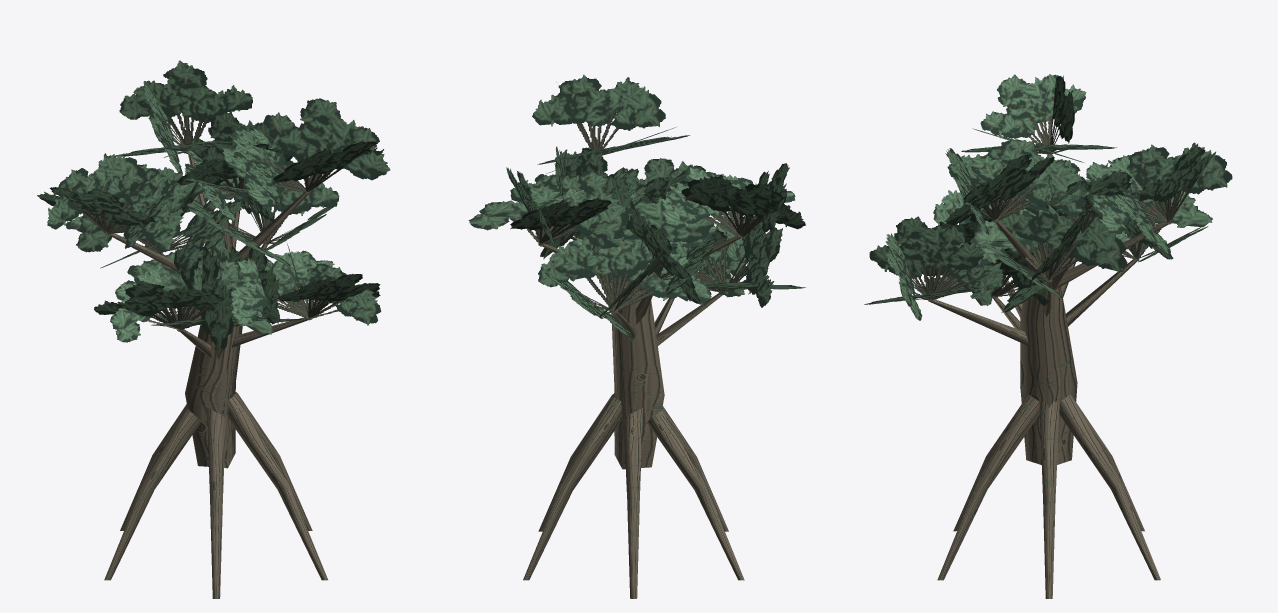
File: salt-marsh-mangrove-mobile.glb
3 renders of one model, left to right at view 1: azimuth 30°, elevation 25°; view 2: azimuth 150°, elevation 25°; view 3: azimuth 270°, elevation 25°, orthographic.
Parts seen in each view (by area): view 1: Salt-marsh mangrove mobile v3 runtime; view 2: Salt-marsh mangrove mobile v3 runtime; view 3: Salt-marsh mangrove mobile v3 runtime.
Part boxes in pixels (x1=…): Salt-marsh mangrove mobile v3 runtime: x1=37, y1=60, x2=390, y2=598; Salt-marsh mangrove mobile v3 runtime: x1=468, y1=74, x2=805, y2=598; Salt-marsh mangrove mobile v3 runtime: x1=864, y1=74, x2=1232, y2=598.
Bounding box in the file's own units: 5.61 × 7.36 × 5.59.
1 material, 1 textured.
